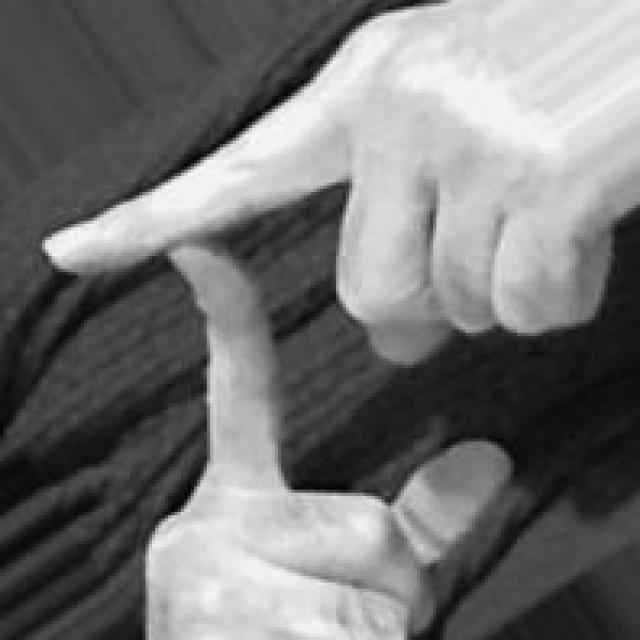T: (35, 0, 640, 640)
